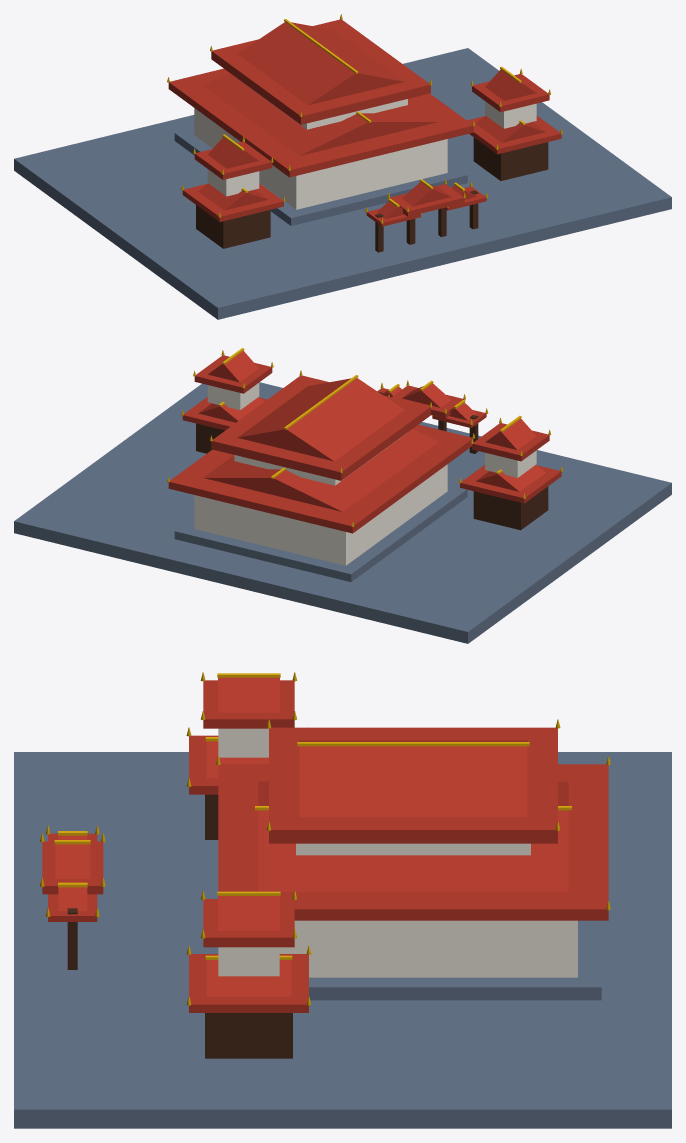
The model's file is lm_15_thien_vien_truc_lam_base.glb.
The picture shows the model from 3 angles, top to bottom: view 1: azimuth 30°, elevation 25°; view 2: azimuth 150°, elevation 25°; view 3: azimuth 270°, elevation 25°; orthographic projection. The views are drawn at different scales.
Visible parts, largest first — view 1: courtyard_terrace, sanctum_roof_low_eave_skirt, sanctum_hall, sanctum_roof_high_eave_skirt, sanctum_roof_high_upper_pitch_slope_l, sanctum_roof_low_upper_pitch_slope_l, sanctum_plinth, drum_tower_base, bell_tower_base, sanctum_roof_high_upper_pitch_slope_r, bell_tower_roof1_eave_skirt, drum_tower_roof1_eave_skirt (+13 smaller); view 2: courtyard_terrace, sanctum_hall, sanctum_roof_low_eave_skirt, sanctum_roof_high_eave_skirt, sanctum_plinth, sanctum_roof_high_upper_pitch_slope_l, sanctum_roof_low_upper_pitch_slope_l, bell_tower_base, sanctum_roof_high_upper_pitch_slope_r, bell_tower_roof1_eave_skirt, sanctum_roof_low_upper_pitch_gable_b, drum_tower_roof2_eave_skirt (+12 smaller); view 3: courtyard_terrace, sanctum_roof_low_eave_skirt, sanctum_roof_high_eave_skirt, sanctum_roof_high_upper_pitch_slope_r, sanctum_hall, sanctum_roof_low_upper_pitch_slope_r, sanctum_plinth, drum_tower_base, drum_tower_roof1_eave_skirt, sanctum_clerestory, drum_tower_roof2_eave_skirt, bell_tower_roof2_eave_skirt (+12 smaller).
Part boxes in pixels (<box>): courtyard_terrace: <box>14,48,671,319</box>; sanctum_roof_low_eave_skirt: <box>168,68,473,177</box>; sanctum_hall: <box>194,108,447,209</box>; sanctum_roof_high_eave_skirt: <box>211,19,430,124</box>; sanctum_roof_high_upper_pitch_slope_l: <box>237,22,355,105</box>; sanctum_roof_low_upper_pitch_slope_l: <box>203,73,367,155</box>; sanctum_plinth: <box>174,128,467,225</box>; drum_tower_base: <box>473,137,548,180</box>; bell_tower_base: <box>196,205,270,248</box>; sanctum_roof_high_upper_pitch_slope_r: <box>291,22,404,81</box>; bell_tower_roof1_eave_skirt: <box>182,183,283,221</box>; drum_tower_roof1_eave_skirt: <box>467,115,561,154</box>; courtyard_terrace: <box>14,382,671,643</box>; sanctum_hall: <box>194,464,447,565</box>; sanctum_roof_low_eave_skirt: <box>168,424,473,533</box>; sanctum_roof_high_eave_skirt: <box>211,375,430,480</box>; sanctum_plinth: <box>174,484,467,581</box>; sanctum_roof_high_upper_pitch_slope_l: <box>287,378,404,461</box>; sanctum_roof_low_upper_pitch_slope_l: <box>274,429,438,511</box>; bell_tower_base: <box>473,486,548,530</box>; sanctum_roof_high_upper_pitch_slope_r: <box>238,378,350,437</box>; bell_tower_roof1_eave_skirt: <box>460,465,561,503</box>; sanctum_roof_low_upper_pitch_gable_b: <box>204,478,342,511</box>; drum_tower_roof2_eave_skirt: <box>194,355,272,393</box>; courtyard_terrace: <box>14,752,671,1128</box>; sanctum_roof_low_eave_skirt: <box>218,764,608,920</box>; sanctum_roof_high_eave_skirt: <box>269,727,557,843</box>; sanctum_roof_high_upper_pitch_slope_r: <box>299,746,527,816</box>; sanctum_hall: <box>279,920,577,977</box>; sanctum_roof_low_upper_pitch_slope_r: <box>258,810,568,891</box>; sanctum_plinth: <box>309,920,601,1000</box>; drum_tower_base: <box>205,1013,292,1058</box>; drum_tower_roof1_eave_skirt: <box>189,954,308,1012</box>; sanctum_clerestory: <box>296,843,530,855</box>; drum_tower_roof2_eave_skirt: <box>203,899,294,947</box>; bell_tower_roof2_eave_skirt: <box>203,680,294,728</box>.
Size of the model in its own units: 72 by 19.44 by 56.
